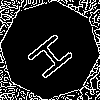H: (25, 25, 83, 82)
